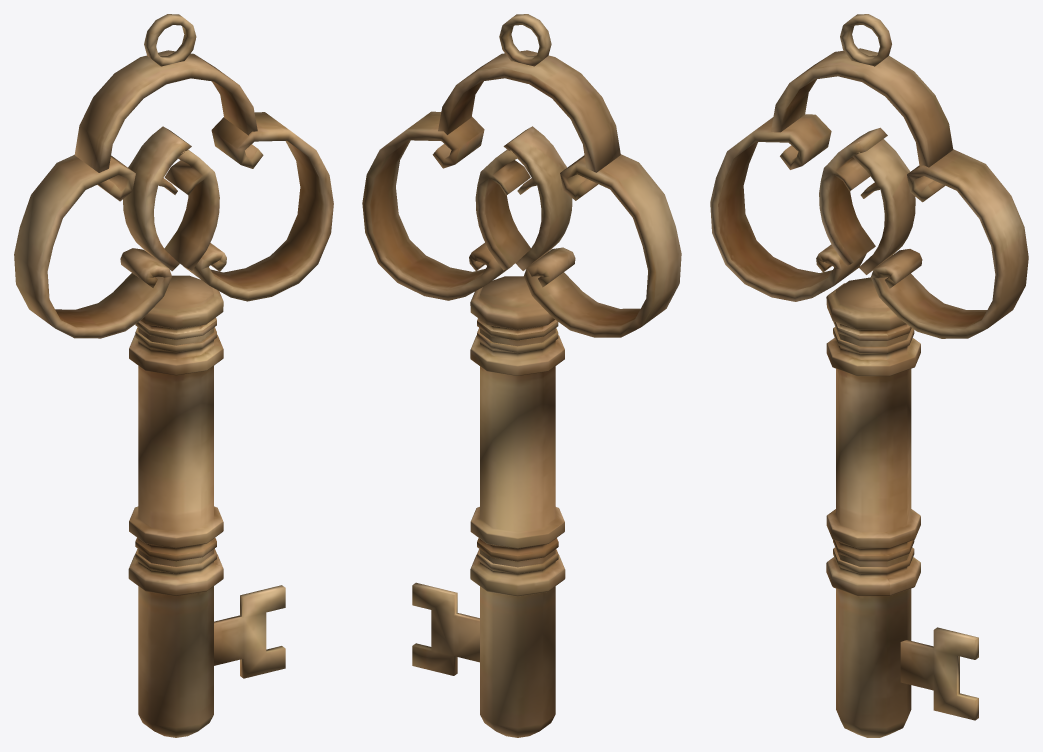
File: Llave Fin.FBX
3 renders of one model, left to right at view 1: azimuth 30°, elevation 25°; view 2: azimuth 150°, elevation 25°; view 3: azimuth 330°, elevation 25°, orthographic.
Visible parts, largest first — view 1: LLave; view 2: LLave; view 3: LLave.
Part boxes in pixels (x1=…): LLave: x1=14, y1=14, x2=333, y2=737; LLave: x1=362, y1=14, x2=681, y2=737; LLave: x1=710, y1=14, x2=1028, y2=737.
Bounding box in the file's own units: 5.19 × 12.13 × 1.45.
Materials: 1 (1 with a texture image).
